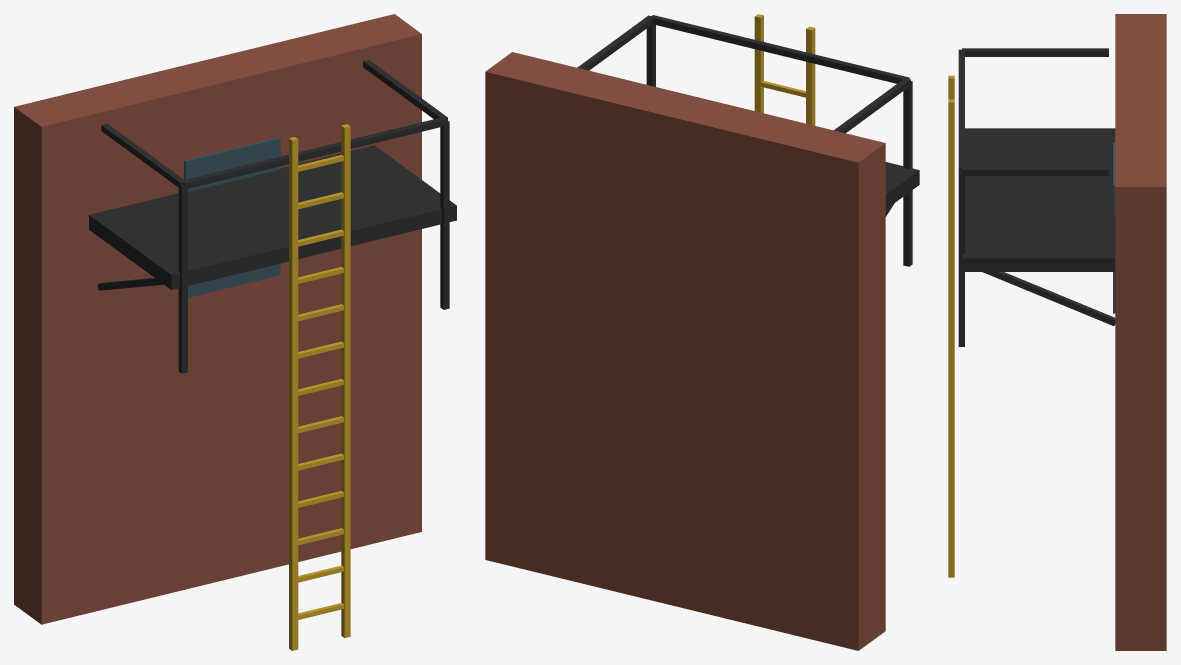
File: fire_escape.glb
The picture shows the model from 3 angles, left to right: view 1: azimuth 30°, elevation 25°; view 2: azimuth 150°, elevation 25°; view 3: azimuth 270°, elevation 25°; orthographic projection. The views are drawn at different scales.
Parts seen in each view (by area): view 1: fire_escape; view 2: fire_escape; view 3: fire_escape.
Boxes of the visible parts, x1,y1,x2,y2 form: fire_escape: [14, 14, 456, 650]; fire_escape: [485, 14, 919, 650]; fire_escape: [948, 14, 1166, 650].
Bounding box in the file's own units: 3.2 × 4.1 × 1.7.
